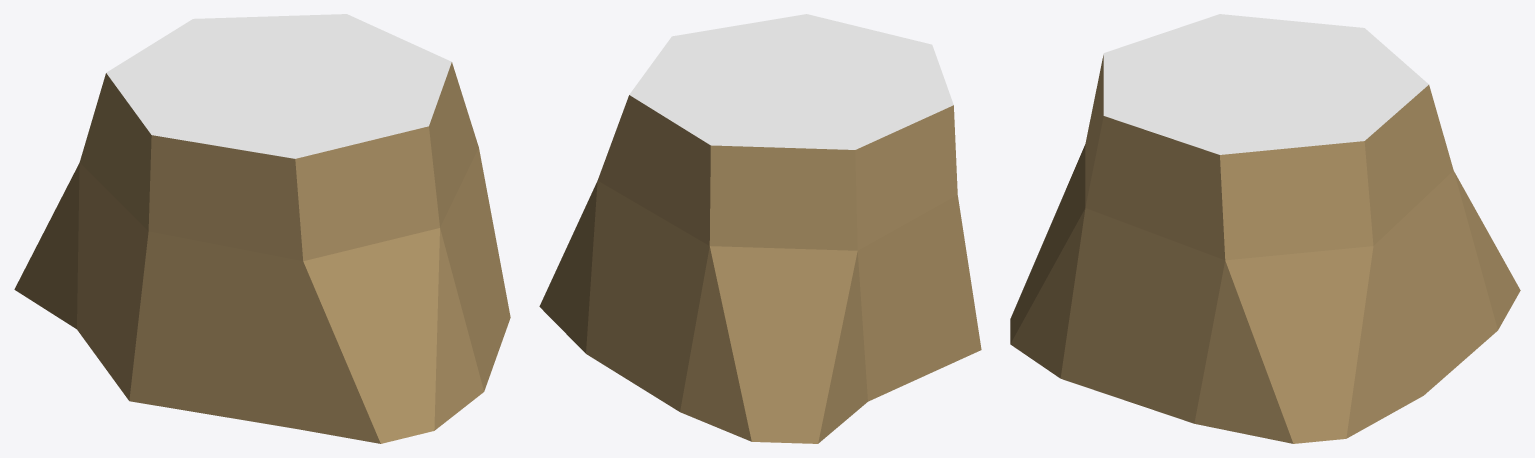
Rendered from Acacia_Stump_Snow_04.fbx.
The picture shows the model from 3 angles, left to right: view 1: azimuth 30°, elevation 25°; view 2: azimuth 150°, elevation 25°; view 3: azimuth 270°, elevation 25°; orthographic projection. The views are drawn at different scales.
Visible parts, largest first — view 1: Acacia_Stump_Snow_04; view 2: Acacia_Stump_Snow_04; view 3: Acacia_Stump_Snow_04.
Part boxes in pixels (bbox=[...]): Acacia_Stump_Snow_04: bbox=[14, 14, 510, 443]; Acacia_Stump_Snow_04: bbox=[539, 14, 981, 443]; Acacia_Stump_Snow_04: bbox=[1010, 14, 1520, 443].
Bounding box in the file's own units: 63.6 × 38.1 × 70.83.
